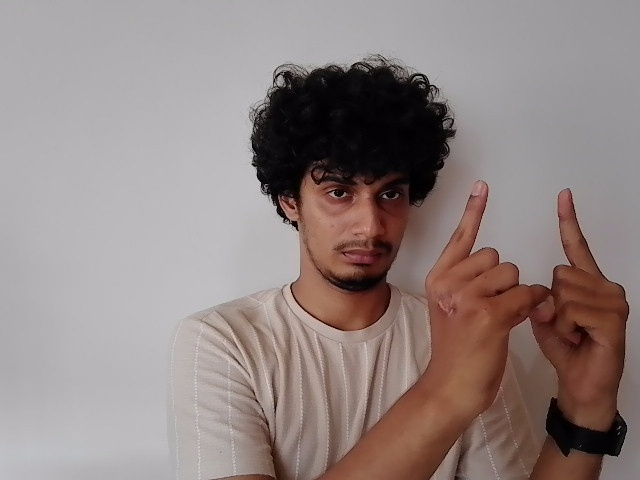play: (422, 178, 634, 400)
